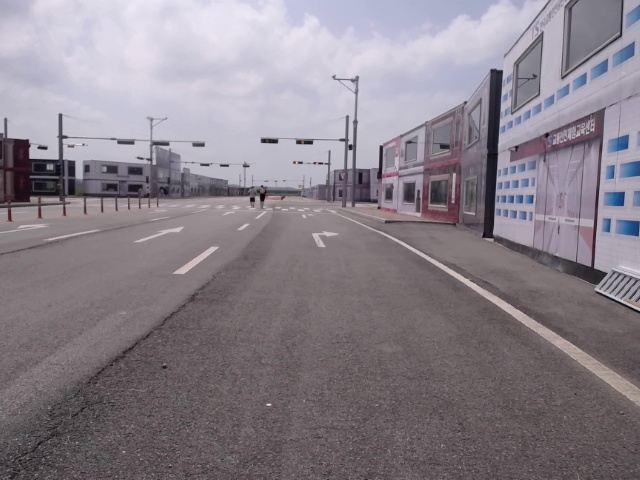orange_4: (259, 137, 278, 145), (297, 138, 314, 146), (290, 158, 304, 165), (311, 160, 324, 165)
